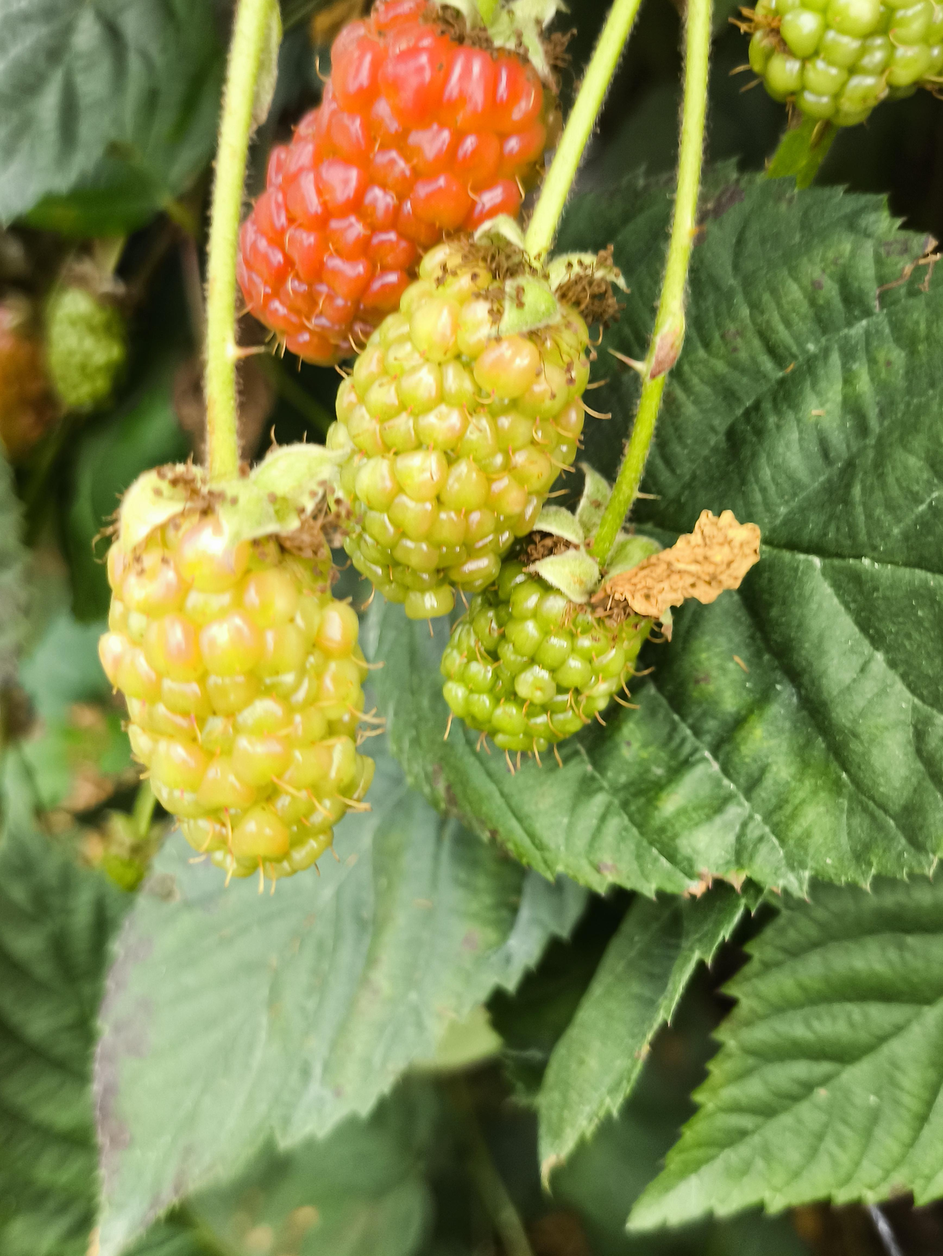naranja: (238, 0, 556, 364)
verde: (99, 465, 374, 885), (329, 249, 584, 615), (441, 563, 650, 756)
